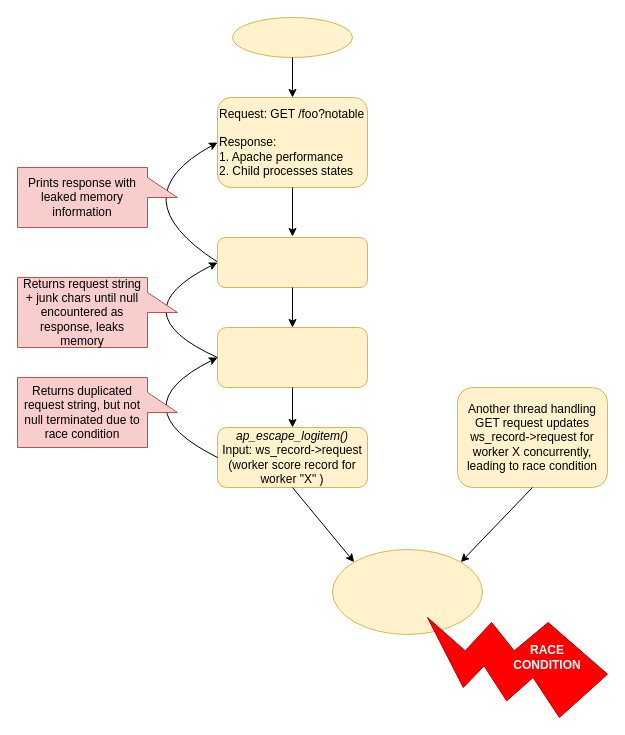
This 625x735 diagram has some shape labels left out. The centre of each missing label's shape, as x and y in pixels:
Invokes ap_escape_html() for say worker "X": point (292, 357)
mod_status_thread: point (292, 37)
Status Module status_handler() : loops over all workers: point (292, 262)
ws_record->request for worker X concurrently accessed by multiple threads: point (407, 591)
